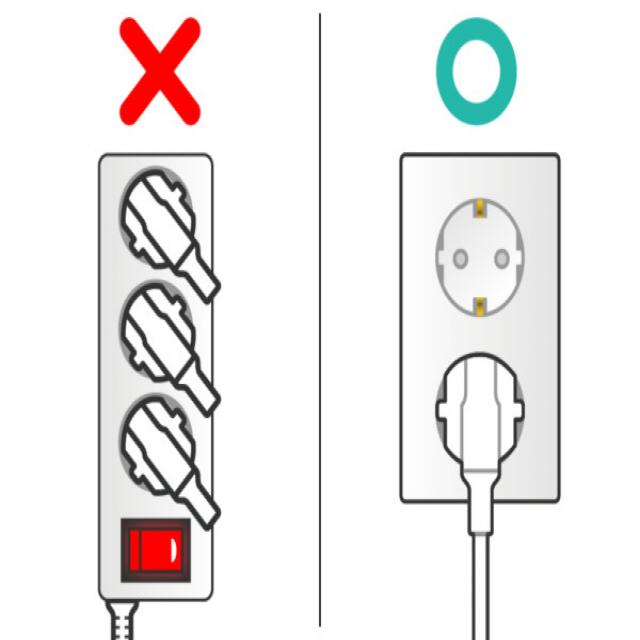typeb: (365, 134, 579, 546), (82, 146, 230, 621)
